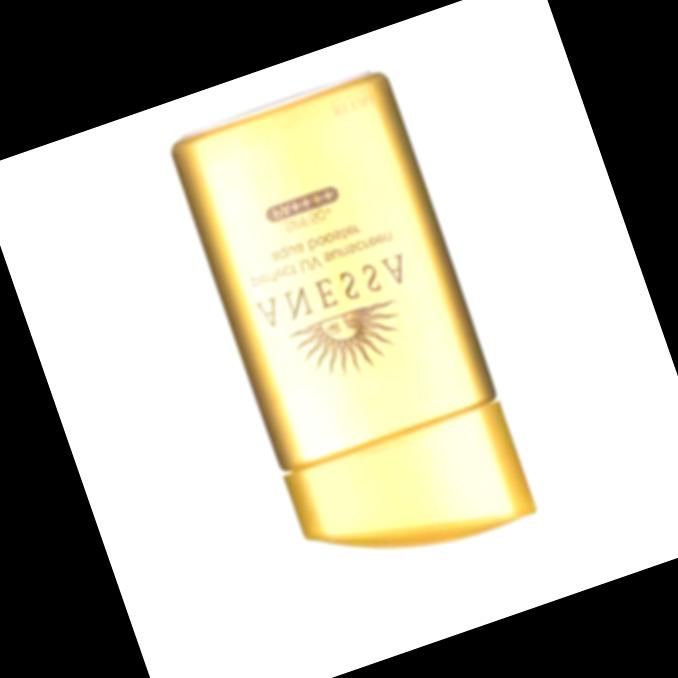cosmetic: (164, 71, 541, 591)
